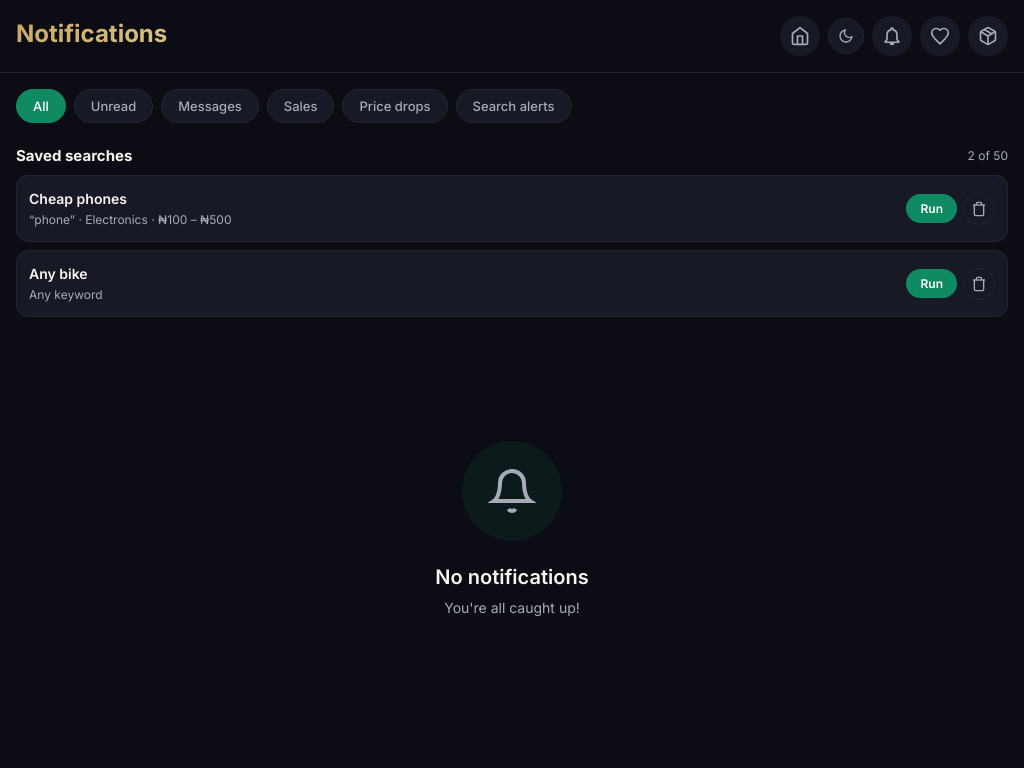
Test: Notifications › deletes a saved search locally and on the server
Expected: the text "Cheap phones" is shown, [29,190,127,207]
Click the button named "Delete saved search Cheap phones" at (979, 208), box [963,192,995,224]
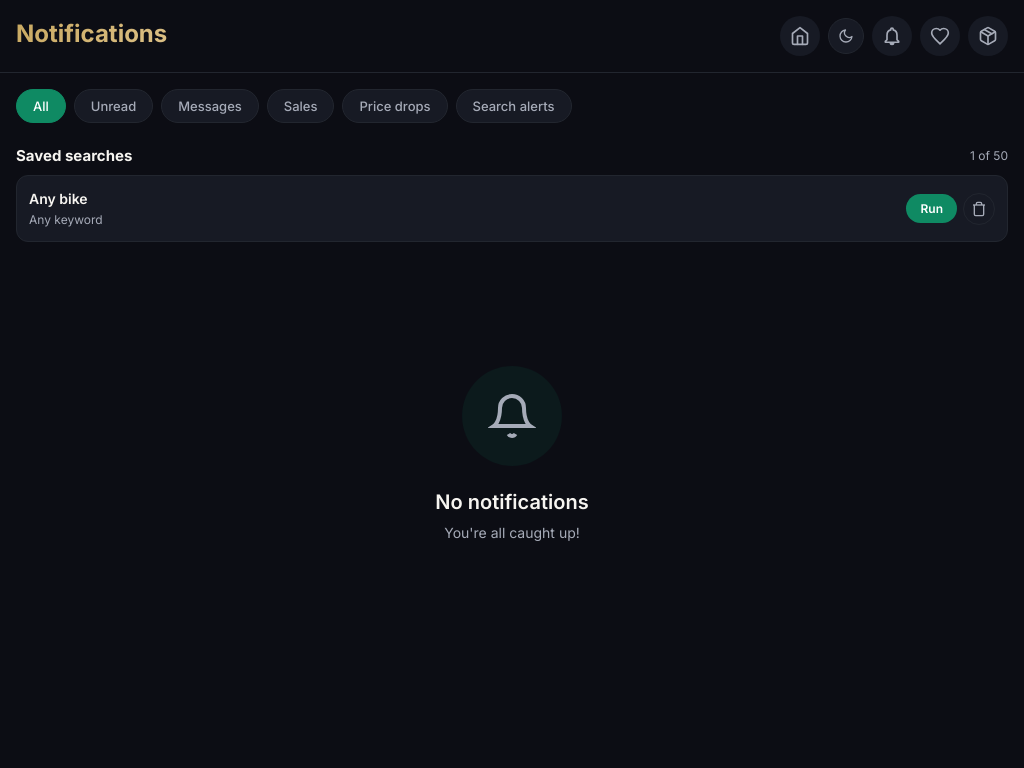
Expected: the text "Any bike" is shown, [29,190,88,207]
Expected: the text "Cheap phones" is gone
